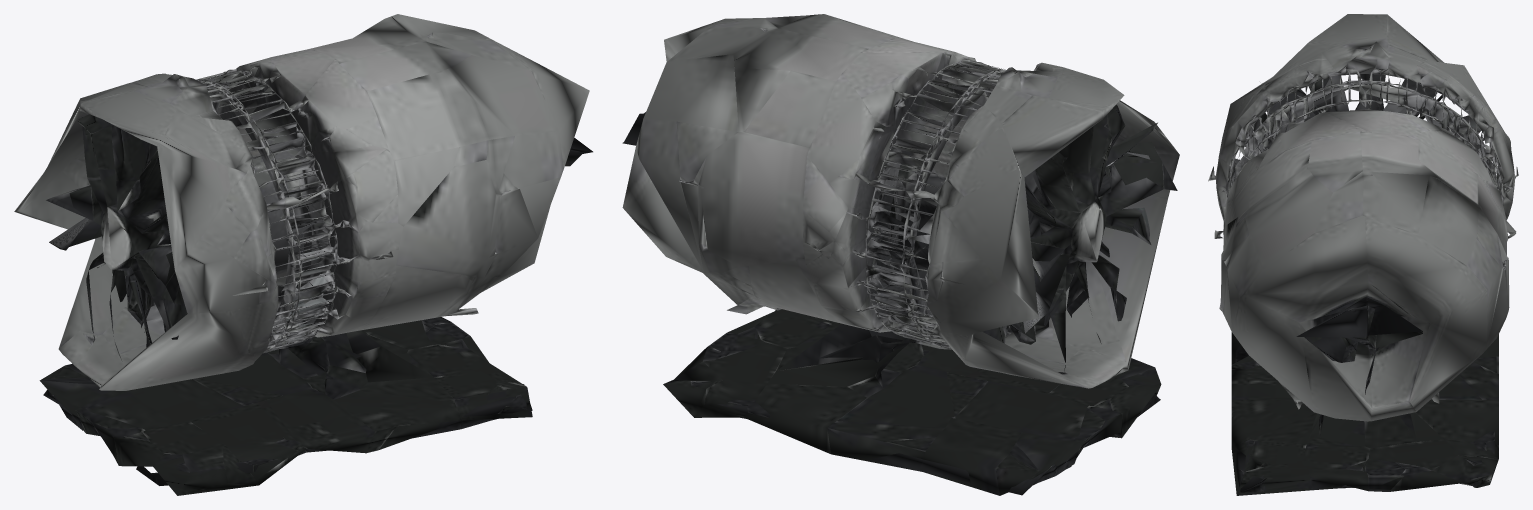
Rendered from co_engine_p.glb.
The picture shows the model from 3 angles, left to right: view 1: azimuth 30°, elevation 25°; view 2: azimuth 150°, elevation 25°; view 3: azimuth 270°, elevation 25°; orthographic projection. The views are drawn at different scales.
Size of the model in its own units: 1.89 by 1.36 by 1.17.
Materials: 1 (1 with a texture image).
